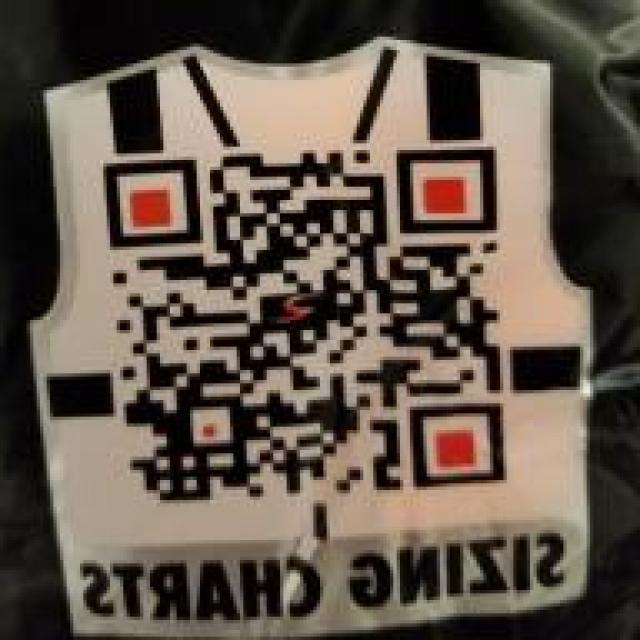qr_code: (103, 148, 505, 503)
